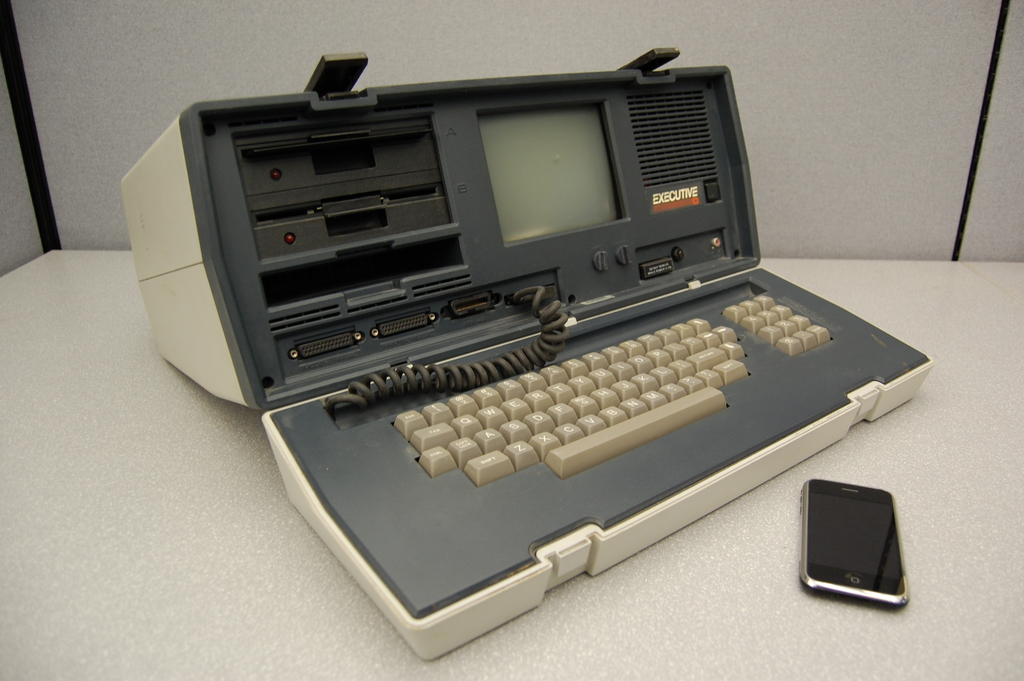mobile phone: (799, 475, 911, 608)
